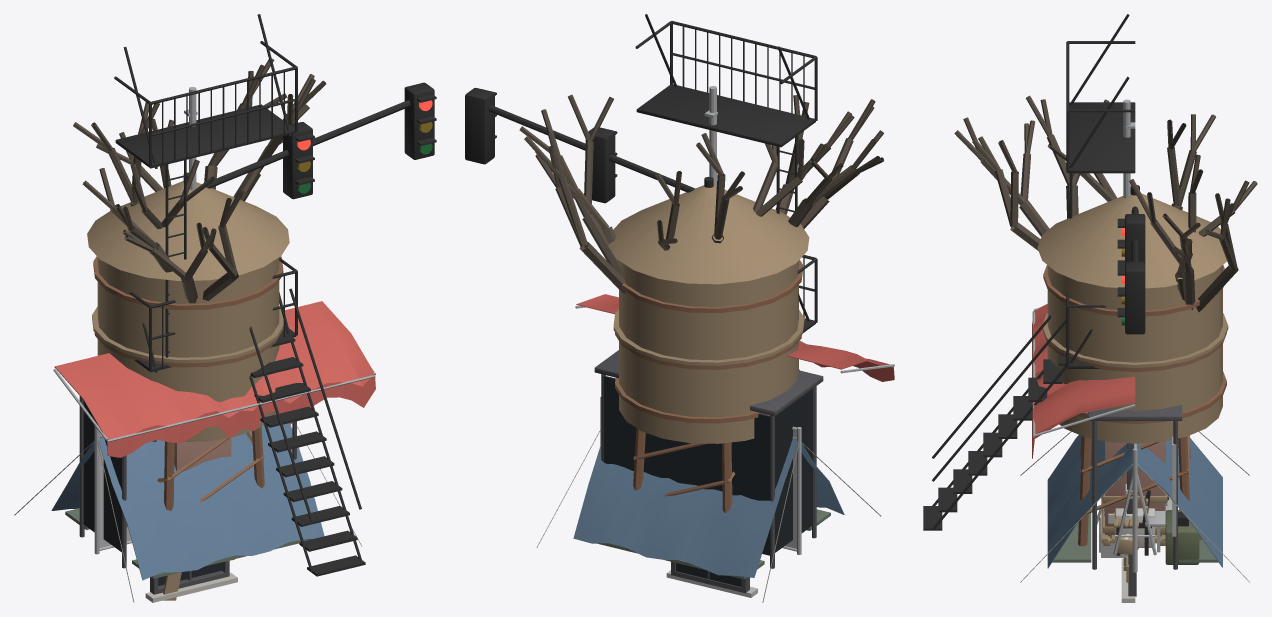
The model's file is street.glb.
The picture shows the model from 3 angles, left to right: view 1: azimuth 30°, elevation 25°; view 2: azimuth 150°, elevation 25°; view 3: azimuth 270°, elevation 25°; orthographic projection. The views are drawn at different scales.
Parts seen in each view (by area): view 1: water_tank, tarp_tent, fire_escape, awning, street_tree, traffic_light, bus_shelter, win_frame, fence_chain, chimney; view 2: water_tank, tarp_tent, bus_shelter, street_tree, fire_escape, traffic_light, awning, fence_chain, win_frame, drainpipe; view 3: water_tank, fire_escape, street_tree, tarp_tent, awning, traffic_light, bus_shelter, chimney, floodlight, fence_chain, plywood_barrier, planter (+4 smaller).
Part boxes in pixels (bbox=[...]): water_tank: bbox=[87, 181, 289, 510]; tarp_tent: bbox=[14, 412, 362, 602]; fire_escape: bbox=[114, 14, 365, 576]; awning: bbox=[53, 301, 375, 457]; street_tree: bbox=[73, 58, 326, 303]; traffic_light: bbox=[183, 82, 436, 199]; bus_shelter: bbox=[79, 396, 296, 568]; win_frame: bbox=[145, 561, 237, 602]; fence_chain: bbox=[94, 426, 131, 554]; chimney: bbox=[174, 438, 231, 471]; water_tank: bbox=[608, 185, 809, 513]; tarp_tent: bbox=[536, 430, 881, 602]; bus_shelter: bbox=[594, 350, 823, 568]; street_tree: bbox=[519, 94, 883, 294]; fire_escape: bbox=[635, 14, 817, 332]; traffic_light: bbox=[465, 87, 713, 203]; awning: bbox=[575, 294, 894, 381]; fence_chain: bbox=[782, 426, 801, 554]; win_frame: bbox=[666, 562, 757, 597]; drainpipe: bbox=[704, 86, 717, 186]; water_tank: bbox=[1037, 193, 1228, 546]; fire_escape: bbox=[923, 14, 1135, 530]; street_tree: bbox=[954, 95, 1257, 312]; tarp_tent: bbox=[1020, 431, 1249, 582]; awning: bbox=[1032, 304, 1135, 458]; traffic_light: bbox=[1117, 185, 1145, 334]; bus_shelter: bbox=[1088, 404, 1182, 569]; chimney: bbox=[1105, 441, 1165, 538]; floodlight: bbox=[1097, 503, 1201, 564]; fence_chain: bbox=[1132, 443, 1137, 572]; plywood_barrier: bbox=[1113, 473, 1156, 555]; planter: bbox=[1115, 508, 1155, 547].
Size of the model in its own units: 6.19 by 8.86 by 4.95.
